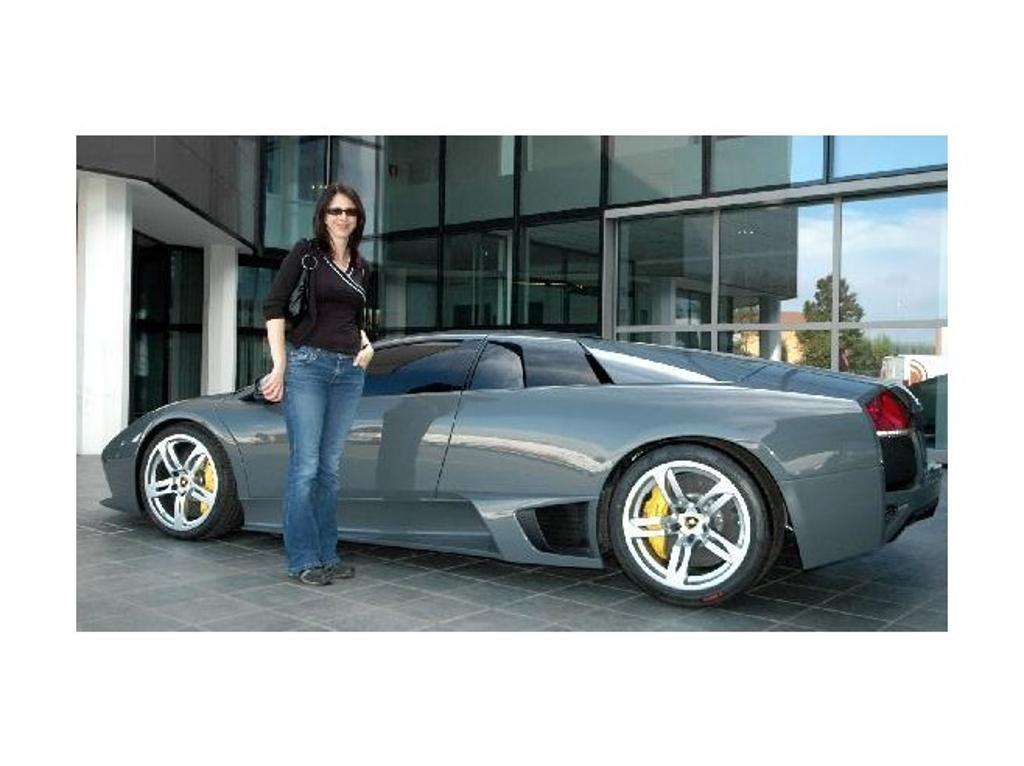face: (327, 193, 359, 237)
